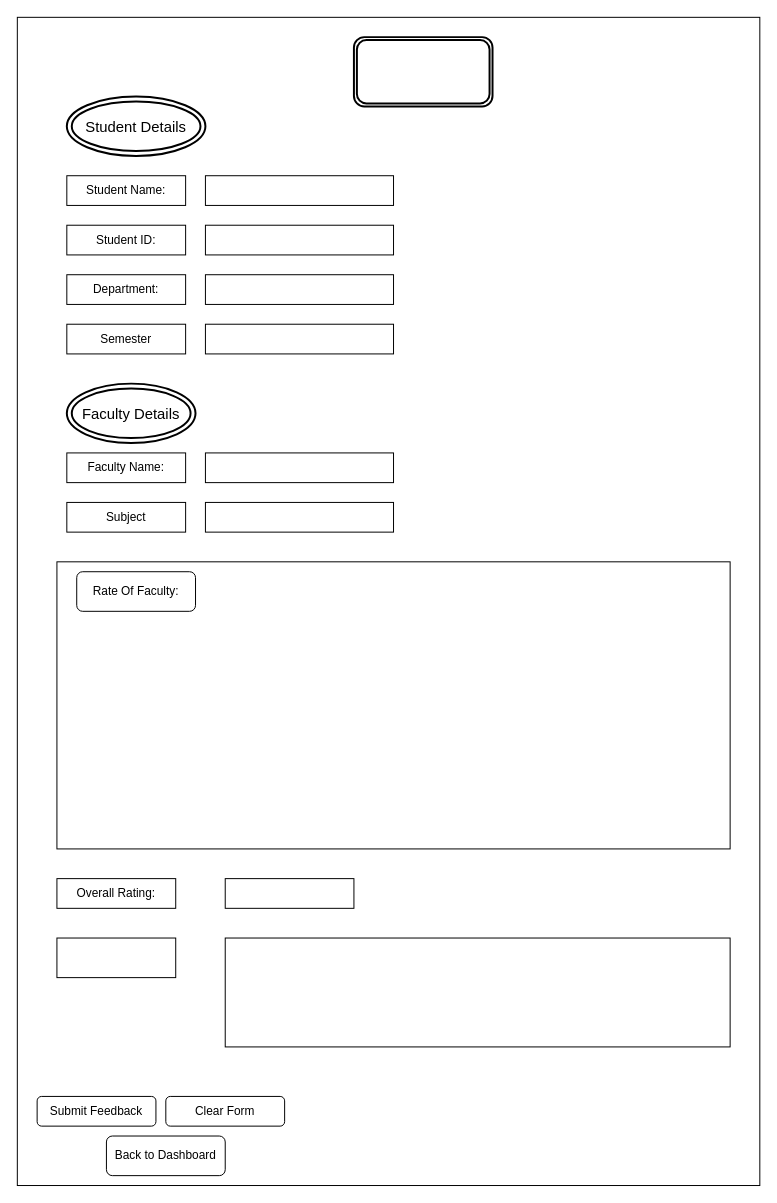
Some shapes in this 777 by 1203 pixel diagram are drawn without their labels. The shapes that lost their labels are listed below. From the top down, each one's box as (x1, y1, x2, y2) in pixels, then its label:
(352, 36, 493, 107): Feedback Form
(56, 937, 176, 978): Suggestions:
